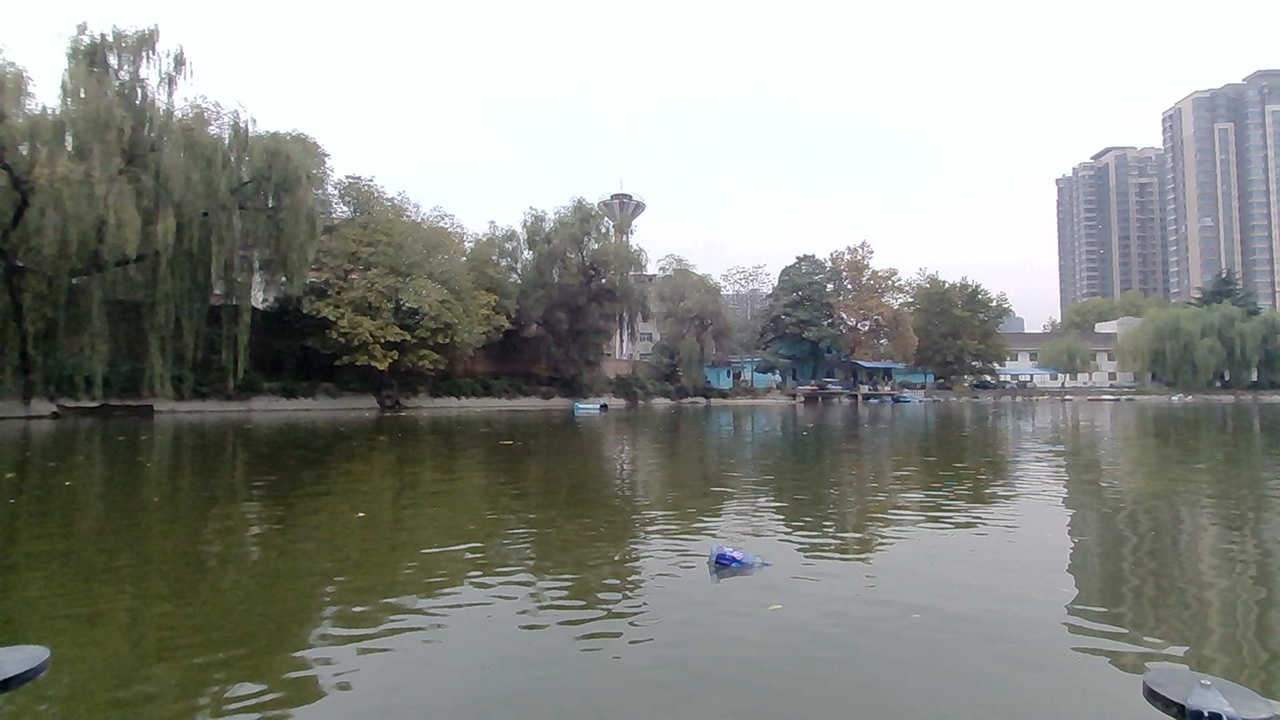bottle: (710, 548, 755, 582)
